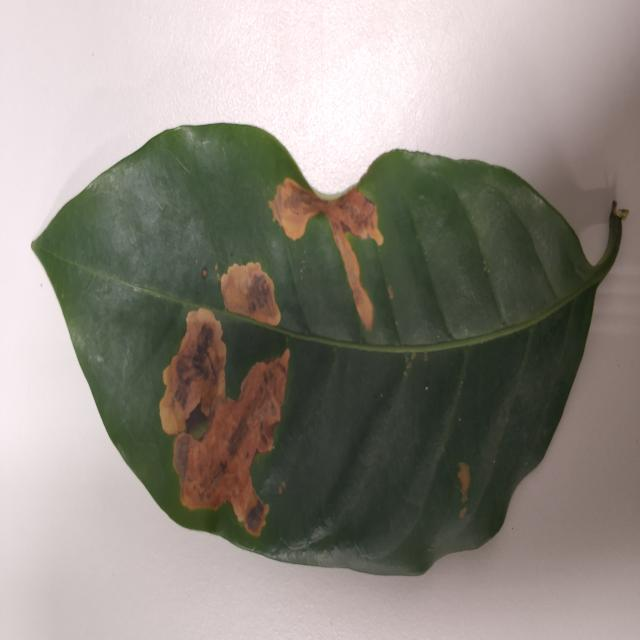Plaga-Minador: (30, 124, 624, 580)
